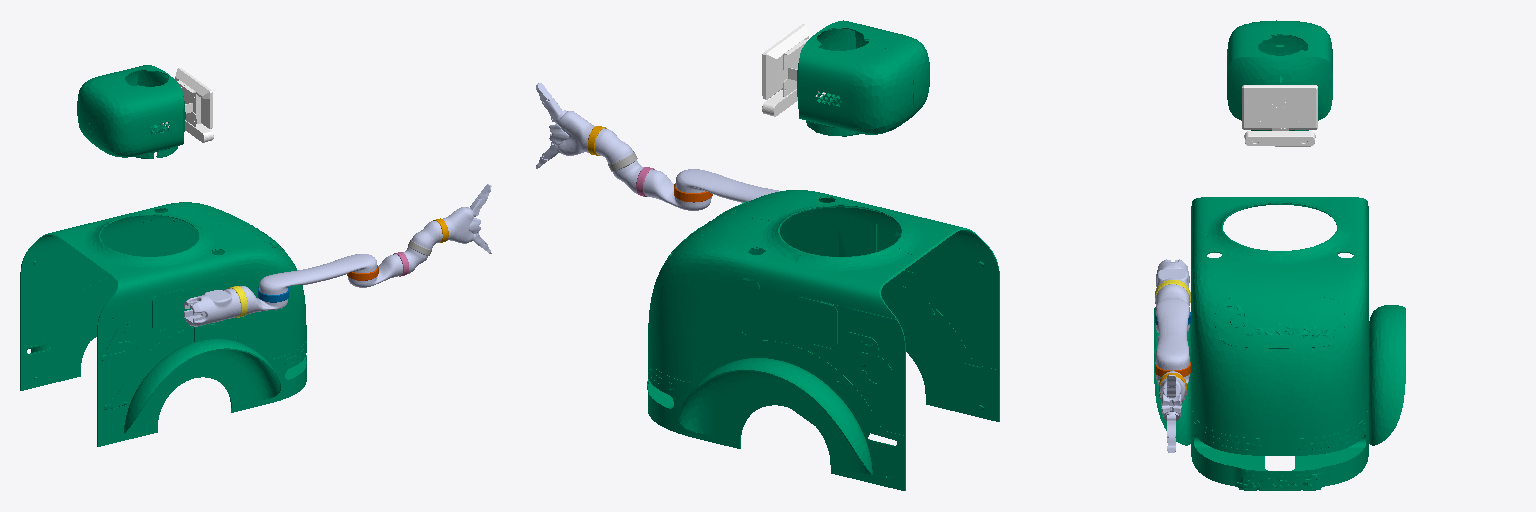
--- Facts derived from the render (not from the file) ---
Views: 3 orthographic renders of the robot side by side, from view 1: azimuth 30°, elevation 25°; view 2: azimuth 150°, elevation 25°; view 3: azimuth 270°, elevation 25°.
Robot: segway_robot — 38 links, 37 joints (4 revolute, 6 continuous, 27 fixed); root link base_link; default pose: all joints at 0 but 2 set to mid-range because 0 is outside their limits (m1n6s200_joint_2 = 3.14, m1n6s200_joint_3 = 3.14).
Links seen in each view (by area): view 1: jr2_fixed_body_link, m1n6s200_link_2, m1n6s200_link_base, tilt_link, m1n6s200_link_6, m1n6s200_link_3, m1n6s200_link_1, m1n6s200_link_5; view 2: jr2_fixed_body_link, tilt_link, m1n6s200_link_2, m1n6s200_link_6, m1n6s200_link_3, m1n6s200_link_5, m1n6s200_link_4, camera_link; view 3: jr2_fixed_body_link, tilt_link, m1n6s200_link_2, camera_link, m1n6s200_link_6, m1n6s200_link_base, m1n6s200_link_1.
Boxes of the visible links, left/top/right/bottom form: jr2_fixed_body_link: left=20, top=65, right=306, bottom=446; m1n6s200_link_2: left=258, top=254, right=376, bottom=302; m1n6s200_link_base: left=184, top=288, right=240, bottom=326; tilt_link: left=175, top=68, right=212, bottom=128; m1n6s200_link_6: left=433, top=207, right=480, bottom=243; m1n6s200_link_3: left=347, top=254, right=402, bottom=287; m1n6s200_link_1: left=228, top=286, right=287, bottom=317; m1n6s200_link_5: left=408, top=221, right=442, bottom=255; jr2_fixed_body_link: left=647, top=20, right=999, bottom=490; tilt_link: left=762, top=24, right=808, bottom=99; m1n6s200_link_2: left=676, top=169, right=779, bottom=202; m1n6s200_link_6: left=549, top=110, right=606, bottom=155; m1n6s200_link_3: left=644, top=169, right=712, bottom=210; m1n6s200_link_5: left=595, top=128, right=637, bottom=171; m1n6s200_link_4: left=613, top=160, right=654, bottom=196; camera_link: left=762, top=89, right=797, bottom=116; jr2_fixed_body_link: left=1154, top=20, right=1405, bottom=490; tilt_link: left=1242, top=85, right=1317, bottom=130; m1n6s200_link_2: left=1155, top=298, right=1190, bottom=370; camera_link: left=1244, top=131, right=1315, bottom=146; m1n6s200_link_6: left=1159, top=373, right=1186, bottom=420; m1n6s200_link_base: left=1156, top=259, right=1189, bottom=288; m1n6s200_link_1: left=1155, top=280, right=1190, bottom=332.
Bounding box of the posed robot: 1.25 × 0.6194 × 0.9925 m (x, y, z).
Meshes: 16 distinct files referenced, 21 mesh visuals loaded (1 binary STL, 13 OBJ); not drawn: 3 (reference not matched to a file when rendering).

robot.urdf — segway_robot:
<?xml version="1.0" ?>
<!-- =================================================================================== -->
<!-- |    This document was autogenerated by xacro from rmp.urdf.xacro                 | -->
<!-- |    EDITING THIS FILE BY HAND IS NOT RECOMMENDED                                 | -->
<!-- =================================================================================== -->
<!--
Software License Agreement (BSD)

\file      segway.urdf.xacro
\authors   Patrick Hussey
\copyright Copyright (c) 2018, Stanley Innovation, Inc., All rights reserved.

Redistribution and use in source and binary forms, with or without modification, are permitted provided that
the following conditions are met:
 * Redistributions of source code must retain the above copyright notice, this list of conditions and the
   following disclaimer.
 * Redistributions in binary form must reproduce the above copyright notice, this list of conditions and the
   following disclaimer in the documentation and/or other materials provided with the distribution.
 * Neither the name of Stanley Innovation, Inc. nor the names of its contributors may be used to endorse or promote
   products derived from this software without specific prior written permission.

THIS SOFTWARE IS PROVIDED BY THE COPYRIGHT HOLDERS AND CONTRIBUTORS "AS IS" AND ANY EXPRESS OR IMPLIED WAR-
RANTIES, INCLUDING, BUT NOT LIMITED TO, THE IMPLIED WARRANTIES OF MERCHANTABILITY AND FITNESS FOR A PARTICULAR
PURPOSE ARE DISCLAIMED. IN NO EVENT SHALL THE COPYRIGHT HOLDER OR CONTRIBUTORS BE LIABLE FOR ANY DIRECT, IN-
DIRECT, INCIDENTAL, SPECIAL, EXEMPLARY, OR CONSEQUENTIAL DAMAGES (INCLUDING, BUT NOT LIMITED TO, PROCUREMENT
OF SUBSTITUTE GOODS OR SERVICES; LOSS OF USE, DATA, OR PROFITS; OR BUSINESS INTERRUPTION) HOWEVER CAUSED AND
ON ANY THEORY OF LIABILITY, WHETHER IN CONTRACT, STRICT LIABILITY, OR TORT (INCLUDING NEGLIGENCE OR OTHERWISE)
ARISING IN ANY WAY OUT OF THE USE OF THIS SOFTWARE, EVEN IF ADVISED OF THE POSSIBILITY OF SUCH DAMAGE.
-->
<robot name="segway_robot" xmlns:xacro="http://ros.org/wiki/xacro">
  <gazebo>
    <plugin filename="libgazebo_ros_control.so" name="gazebo_ros_control">
      <robotNamespace>/</robotNamespace>
    </plugin>
    <plugin filename="libgazebo_ros_p3d.so" name="gazebo_ros_p3d">
      <bodyName>base_link</bodyName>
      <topicName>ground_truth_odom</topicName>
      <alwaysOn>true</alwaysOn>
      <updateRate>100.0</updateRate>
    </plugin>
  </gazebo>
  <!-- Base link is the center of the robot's chassis between the motors projected on the ground -->
  <link name="base_link">
  <inertial>
      <mass value="0.001"/>
      <origin rpy="0 0 0" xyz="0 0 0"/>
      <inertia ixx="0.0001" ixy="0.0" ixz="0.0" iyy="0.0001" iyz="0.0" izz="0.0001"/>
    </inertial>
  </link>
  <joint name="base_chassis_joint" type="fixed">
    <origin rpy="0 0 0" xyz="0 0 0.15801795"/>
    <parent link="base_link"/>
    <child link="base_chassis_link"/>
  </joint>
  <link name="base_chassis_link">
    <inertial>
      <mass value="101.0333036"/>
      <origin xyz="0 0 0.202000"/>
      <inertia ixx="5.38268396036" ixy="0" ixz="0" iyy="5.38268396036" iyz="0" izz="5.38268396036"/>
    </inertial>
    <collision>
      <geometry>
        <mesh filename="meshes/segway_components/collision/fixed_chassis_collision.stl"/>
      </geometry>
    </collision>
    <visual>
      <origin rpy="0 0 0" xyz="0 0 0"/>
      <geometry>
        <mesh filename="meshes/segway_components/visual/fixed_chassis.obj"/>
      </geometry>
          <material name="">
        <color rgba="1 1 1 1" />
      </material>
</visual>
  </link>

<joint name="jr2_fixed_body_joint" type="fixed">
    <parent link="base_chassis_link"/>
    <child link="jr2_fixed_body_link"/>
    <origin rpy="0 0 0" xyz="0 0 0"/>
  </joint>
  <link name="jr2_fixed_body_link">
    <visual>
      <origin rpy="0 0 0" xyz="0 0 0"/>
      <geometry>
        <mesh filename="meshes/segway_components/visual/fixed_body.obj" scale="1.0 1.0 1.0"/>
      </geometry>
    </visual>
    <collision>
      <origin rpy="0 0 0" xyz="0 0 0"/>
      <geometry>
        <mesh filename="meshes/segway_components/visual/fixed_body_vhacd.obj" scale="1.0 0.95 1.0"/>
      </geometry>
    </collision>
    <inertial>
      <mass value="0.001"/>
      <origin rpy="0 0 0" xyz="0 0 0"/>
      <inertia ixx="0.0001" ixy="0.0" ixz="0.0" iyy="0.0001" iyz="0.0" izz="0.0001"/>
    </inertial>
    
  </link>

  <joint name="left_wheel" type="continuous">
    <parent link="base_chassis_link"/>
    <child link="left_wheel_link"/>
    <origin rpy="0 0 0" xyz="0 0.27105 0.08255015"/>
    <axis rpy="0 0 0" xyz="0 1 0"/>
  </joint>
  <gazebo reference="left_wheel">
    <implicitSpringDamper>1</implicitSpringDamper>
    <stopCfm>0.1</stopCfm>
    <stopErp>0.2</stopErp>
  </gazebo>
  <link name="left_wheel_link">
    <inertial>
      <mass value="20.0"/>
      <origin rpy="0 0 0" xyz="0 0 0"/>
      <inertia ixx="0.303625" ixy="0.000000" ixz="0.000000" iyx="0.000000" iyy="0.303625" iyz="0.000000" izx="0.000000" izy="0.000000" izz="0.578884"/>
    </inertial>
    <visual>
      <origin rpy="-1.570795 0 0" xyz="0 0 0"/>
      <geometry>
        <mesh filename="meshes/segway_components/visual/i2_wheel.obj"/>
      </geometry>
          <material name="">
        <color rgba="1 1 1 1" />
      </material>
</visual>
    <collision>
      <origin rpy="-1.570795 0 0" xyz="0 0 0"/>
      <geometry>
        <cylinder length="0.092249" radius="0.2406"/>
      </geometry>
    </collision>

    <contact>
      <lateral_friction value="1.0"/>
      <rolling_friction value="0.0"/>
    <stiffness value="300000"/>
<damping value="30000"/>
    </contact>


  </link>
  <gazebo reference="left_wheel_link">
    <mu1>10</mu1>
    <mu2>10</mu2>
    <kp>5000000.0</kp>
    <kd>10.0</kd>
    <minDepth>0.001</minDepth>
    <maxVel>0.1</maxVel>
    <fdir1>1 0 0</fdir1>
  </gazebo>
  <transmission name="left_wheel_trans" type="SimpleTransmission">
    <type>transmission_interface/SimpleTransmission</type>
    <actuator name="left_wheel_motor">
      <mechanicalReduction>1</mechanicalReduction>
    </actuator>
    <joint name="left_wheel">
      <hardwareInterface>hardware_interface/VelocityJointInterface</hardwareInterface>
    </joint>
  </transmission>
  <joint name="right_wheel" type="continuous">
    <parent link="base_chassis_link"/>
    <child link="right_wheel_link"/>
    <origin rpy="0 0 0" xyz="0 -0.27105 0.08255015"/>
    <axis rpy="0 0 0" xyz="0 1 0"/>
  </joint>
  <gazebo reference="right_wheel">
    <implicitSpringDamper>1</implicitSpringDamper>
    <stopCfm>0.1</stopCfm>
    <stopErp>0.2</stopErp>
  </gazebo>
  <link name="right_wheel_link">
    <inertial>
      <mass value="20.0"/>
      <origin rpy="0 0 0" xyz="0 0 0"/>
      <inertia ixx="0.303625" ixy="0.000000" ixz="0.000000" iyx="0.000000" iyy="0.303625" iyz="0.000000" izx="0.000000" izy="0.000000" izz="0.578884"/>
    </inertial>
    <visual>
      <origin rpy="1.570795 0 0" xyz="0 0 0"/>
      <geometry>
        <mesh filename="meshes/segway_components/visual/i2_wheel.obj"/>
      </geometry>
          <material name="">
        <color rgba="1 1 1 1" />
      </material>
</visual>
    <collision>
      <origin rpy="1.570795 0 0" xyz="0 0 0"/>
      <geometry>
        <cylinder length="0.092249" radius="0.2406"/>
      </geometry>
    </collision>

    <contact>
      <lateral_friction value="1.0"/>
      <rolling_friction value="0.0"/>
    <stiffness value="300000"/>
<damping value="30000"/>
    </contact>

  </link>
  <gazebo reference="right_wheel_link">
    <mu1>10</mu1>
    <mu2>10</mu2>
    <kp>5000000.0</kp>
    <kd>10.0</kd>
    <minDepth>0.001</minDepth>
    <maxVel>0.1</maxVel>
    <fdir1>1 0 0</fdir1>
  </gazebo>
  <transmission name="right_wheel_trans" type="SimpleTransmission">
    <type>transmission_interface/SimpleTransmission</type>
    <actuator name="right_wheel_motor">
      <mechanicalReduction>1</mechanicalReduction>
    </actuator>
    <joint name="right_wheel">
      <hardwareInterface>hardware_interface/VelocityJointInterface</hardwareInterface>
    </joint>
  </transmission>
  <link name="front_caster_pivot_link">
    <inertial>
      <mass value="0.0001"/>
      <origin rpy="0 0 0" xyz="0 0 0"/>
      <inertia ixx="0.0000001" ixy="0.0" ixz="0.0" iyy="0.0000001" iyz="0.0" izz="0.0000001"/>
    </inertial>
    <collision>
      <geometry>
        <mesh filename="meshes/segway_components/collision/frogleg_caster_pivot_collision.stl"/>
      </geometry>
    </collision>
  </link>
  <joint name="front_caster_pivot_joint" type="fixed">
    <origin rpy="0 0 3.14159" xyz="0.385841 0 0.051100"/>
    <parent link="base_chassis_link"/>
    <child link="front_caster_pivot_link"/>
  </joint>
  <link name="front_caster_wheel_link">
    <inertial>
      <mass value="1"/>
      <origin rpy="0 0 0" xyz="0 0 0"/>
      <inertia ixx="0.002794" ixy="0.0" ixz="0.0" iyy="0.002794" iyz="0.0" izz="0.002794"/>
    </inertial>
    <collision>
      <geometry>
        <sphere radius="0.083571637"/>
      </geometry>
    </collision>

    <contact>
      <lateral_friction value="0.0"/>
      <rolling_friction value="0.0"/>
     <stiffness value="500000"/>
<damping value="30000"/>
    </contact>

  </link>
  <joint name="front_caster_wheel_joint" type="fixed">
    <origin rpy="-1.570795 0 0" xyz="-0.055330 0 -0.125551"/>
    <parent link="front_caster_pivot_link"/>
    <child link="front_caster_wheel_link"/>
  </joint>
  <gazebo reference="front_caster_wheel_link">
    <mu1>0.0</mu1>
    <mu2>0.0</mu2>
    <kp>10000000.0</kp>
    <kd>100.0</kd>
    <minDepth>0.01</minDepth>
    <maxVel>10.0</maxVel>
  </gazebo>
  <link name="rear_caster_pivot_link">
    <inertial>
      <mass value="0.0001"/>
      <origin rpy="0 0 0" xyz="0 0 0"/>
      <inertia ixx="0.0000001" ixy="0.0" ixz="0.0" iyy="0.0000001" iyz="0.0" izz="0.0000001"/>
    </inertial>
    <collision>
      <geometry>
        <mesh filename="meshes/segway_components/collision/frogleg_caster_pivot_collision.stl"/>
      </geometry>
    </collision>
  </link>
  <joint name="rear_caster_pivot_joint" type="fixed">
    <origin rpy="0 0 0" xyz="-0.314721 0 0.051100"/>
    <parent link="base_chassis_link"/>
    <child link="rear_caster_pivot_link"/>
  </joint>
  <link name="rear_caster_wheel_link">
    <inertial>
      <mass value="1"/>
      <origin rpy="0 0 0" xyz="0 0 0"/>
      <inertia ixx="0.002794" ixy="0.0" ixz="0.0" iyy="0.002794" iyz="0.0" izz="0.002794"/>
    </inertial>
    <collision>
      <geometry>
        <sphere radius="0.083571637"/>
      </geometry>
    </collision>

    <contact>
      <lateral_friction value="0.0"/>
      <rolling_friction value="0.0"/>
 <stiffness value="300000"/>
<damping value="30000"/>
    </contact>

  </link>
  <joint name="rear_caster_wheel_joint" type="fixed">
    <origin rpy="-1.570795 0 0" xyz="-0.055330 0 -0.125551"/>
    <parent link="rear_caster_pivot_link"/>
    <child link="rear_caster_wheel_link"/>
  </joint>
  <gazebo reference="rear_caster_wheel_link">
    <mu1>0.0</mu1>
    <mu2>0.0</mu2>
    <kp>10000000.0</kp>
    <kd>100.0</kd>
    <minDepth>0.01</minDepth>
    <maxVel>10.0</maxVel>
  </gazebo>
  <!-- CH Robotics UM7 Link-->
  <link name="ext_imu_frame">
  <inertial>
      <mass value="0.001"/>
      <origin rpy="0 0 0" xyz="0 0 0"/>
      <inertia ixx="0.0001" ixy="0.0" ixz="0.0" iyy="0.0001" iyz="0.0" izz="0.0001"/>
    </inertial>
    </link>
  <joint name="ext_imu_joint" type="fixed">
    <origin rpy="3.14159 0 1.570795" xyz="0.053540 0 0.086597"/>
    <parent link="base_chassis_link"/>
    <child link="ext_imu_frame"/>
  </joint>
  <gazebo>
    <plugin filename="libhector_gazebo_ros_imu.so" name="imu_controller">
      <alwaysOn>1</alwaysOn>
      <updateRate>50.0</updateRate>
      <bodyName>ext_imu_frame</bodyName>
      <topicName>/segway/feedback/ext_imu</topicName>
      <accelDrift>0.005 0.005 0.005</accelDrift>
      <accelGaussianNoise>0.005 0.005 0.005</accelGaussianNoise>
      <rateDrift>0.005 0.005 0.005 </rateDrift>
      <rateGaussianNoise>0.005 0.005 0.005 </rateGaussianNoise>
      <headingDrift>0.005</headingDrift>
      <headingGaussianNoise>0.005</headingGaussianNoise>
    </plugin>
  </gazebo>
  <link name="rear_laser_link">
  <inertial>
      <mass value="0.001"/>
      <origin rpy="0 0 0" xyz="0 0 0"/>
      <inertia ixx="0.0001" ixy="0.0" ixz="0.0" iyy="0.0001" iyz="0.0" izz="0.0001"/>
    </inertial>
  </link>
  <joint name="rear_laser_joint" type="fixed">
    <origin rpy="0 0 3.14159" xyz="-0.336957 0 0.137117"/>
    <parent link="base_chassis_link"/>
    <child link="rear_laser_link"/>
  </joint>
  <gazebo reference="rear_laser_link">
    <sensor name="rear_tim_laser" type="gpu_ray">
      <pose>0 0 0 0 0 0</pose>
      <visualize>false</visualize>
      <update_rate>15</update_rate>
      <ray>
        <scan>
          <horizontal>
            <samples>660</samples>
            <resolution>1</resolution>
            <min_angle>-1.9</min_angle>
            <max_angle>1.9</max_angle>
          </horizontal>
        </scan>
        <range>
          <min>0.10</min>
          <max>20.0</max>
          <resolution>0.01</resolution>
        </range>
        <noise>
          <type>gaussian</type>
          <mean>0.0</mean>
          <stddev>0.0</stddev>
        </noise>
      </ray>
      <plugin filename="libgazebo_ros_gpu_laser.so" name="rear_tim_node">
        <topicName>/segway/rear_scan</topicName>
        <frameName>rear_laser_link</frameName>
      </plugin>
    </sensor>
  </gazebo>
  <link name="front_laser_link">
  <inertial>
      <mass value="0.001"/>
      <origin rpy="0 0 0" xyz="0 0 0"/>
      <inertia ixx="0.0001" ixy="0.0" ixz="0.0" iyy="0.0001" iyz="0.0" izz="0.0001"/>
    </inertial>
  </link>
  <joint name="front_laser_joint" type="fixed">
    <origin rpy="0 0 0" xyz="0.336957 0 0.137117"/>
    <parent link="base_chassis_link"/>
    <child link="front_laser_link"/>
  </joint>
  <gazebo reference="front_laser_link">
    <sensor name="front_tim_laser" type="gpu_ray">
      <pose>0 0 0 0 0 0</pose>
      <visualize>false</visualize>
      <update_rate>15</update_rate>
      <ray>
        <scan>
          <horizontal>
            <samples>660</samples>
            <resolution>1</resolution>
            <min_angle>-1.9</min_angle>
            <max_angle>1.9</max_angle>
          </horizontal>
        </scan>
        <range>
          <min>0.10</min>
          <max>20.0</max>
          <resolution>0.01</resolution>
        </range>
        <noise>
          <type>gaussian</type>
          <mean>0.0</mean>
          <stddev>0.0</stddev>
        </noise>
      </ray>
      <plugin filename="libgazebo_ros_gpu_laser.so" name="front_tim_node">
        <topicName>/segway/front_scan</topicName>
        <frameName>front_laser_link</frameName>
      </plugin>
    </sensor>
  </gazebo>
  <link name="lower_velodyne_frame">
  <inertial>
      <mass value="0.001"/>
      <origin rpy="0 0 0" xyz="0 0 0"/>
      <inertia ixx="0.0001" ixy="0.0" ixz="0.0" iyy="0.0001" iyz="0.0" izz="0.0001"/>
    </inertial>
  </link>
  <joint name="lower_velodyne_joint" type="fixed">
    <origin rpy="0 0 0" xyz="-0.019685 0 0.606982"/>
    <parent link="base_chassis_link"/>
    <child link="lower_velodyne_frame"/>
  </joint>
  <!--gazebo reference="lower_velodyne_frame">>
            <sensor type="ray" name="lower_velodyne">
                <pose>0 0 0 0 0 0</pose>
                <visualize>false</visualize>
                <update_rate>10</update_rate>
                <ray>
                    <scan>
                        <horizontal>
                            <samples>1090</samples>
                            <resolution>1</resolution>
                            <min_angle>${-M_PI}</min_angle>
                            <max_angle>${M_PI}</max_angle>
                        </horizontal>
                        <vertical>
                            <samples>16</samples>
                            <resolution>1</resolution>
                            <min_angle>-${15.0*M_PI/180.0}</min_angle>
                            <max_angle> ${15.0*M_PI/180.0}</max_angle>
                        </vertical>
                    </scan>
                    <range>
                        <min>0.9</min>
                        <max>20.0</max>
                        <resolution>0.001</resolution>
                    </range>
                    <noise>
                        <type>gaussian</type>
                        <mean>0.0</mean>
                        <stddev>0.0</stddev>
                    </noise>
                </ray>
                <plugin name="lower_velodyne_plugin" filename="libgazebo_ros_block_laser.so">
                    <updateRate>10.0</updateRate>
                    <topicName>/lower_velodyne_pointcloud</topicName>
                    <frameName>lower_velodyne_frame</frameName>
                </plugin>

            </sensor>
        </gazebo-->
  <link name="occam">
  <inertial>
      <mass value="0.001"/>
      <origin rpy="0 0 0" xyz="0 0 0"/>
      <inertia ixx="0.0001" ixy="0.0" ixz="0.0" iyy="0.0001" iyz="0.0" izz="0.0001"/>
    </inertial>
    </link>
  <joint name="ocamm_omni_joint" type="fixed">
    <origin rpy="-1.570795 0 -1.570795" xyz="-0.019685 0 0.742092"/>
    <parent link="base_chassis_link"/>
    <child link="occam"/>
  </joint>
  <link name="occam_omni_optical_link">
  <inertial>
      <mass value="0.001"/>
      <origin rpy="0 0 0" xyz="0 0 0"/>
      <inertia ixx="0.0001" ixy="0.0" ixz="0.0" iyy="0.0001" iyz="0.0" izz="0.0001"/>
    </inertial>
  </link>
  <joint name="ocamm_omni_optical_joint" type="fixed">
    <origin rpy="0 1.570795 -1.570795" xyz="0 0 0"/>
    <parent link="occam"/>
    <child link="occam_omni_optical_link"/>
  </joint>
  <link name="upper_velodyne_frame">
  <inertial>
      <mass value="0.001"/>
      <origin rpy="0 0 0" xyz="0 0 0"/>
      <inertia ixx="0.0001" ixy="0.0" ixz="0.0" iyy="0.0001" iyz="0.0" izz="0.0001"/>
    </inertial>
  </link>
  <joint name="upper_velodyne_joint" type="fixed">
    <origin rpy="0 0 0.085" xyz="-0.019685 0 1.077382"/>
    <parent link="base_chassis_link"/>
    <child link="upper_velodyne_frame"/>
  </joint>
  <!--gazebo reference="upper_velodyne_frame">
            <sensor name="upper_velodyne" type="ray">
                <pose>0 0 0 0 0 0</pose>
                <visualize>false</visualize>
                <update_rate>10</update_rate>
                <ray>
                    <scan>
                        <horizontal>
                            <samples>1090</samples>
                            <resolution>1</resolution>
                            <min_angle>${-M_PI}</min_angle>
                            <max_angle>${M_PI}</max_angle>
                        </horizontal>
                        <vertical>
                            <samples>16</samples>
                            <resolution>1</resolution>
                            <min_angle>-${15.0*M_PI/180.0}</min_angle>
                            <max_angle> ${15.0*M_PI/180.0}</max_angle>
                        </vertical>
                    </scan>
                    <range>
                        <min>0.9</min>
                        <max>20.0</max>
                        <resolution>0.001</resolution>
                    </range>
                    <noise>
                        <type>gaussian</type>
                        <mean>0.0</mean>
                        <stddev>0.0</stddev>
                    </noise>
                </ray>
                <plugin name="upper_velodyne_plugin" filename="libgazebo_ros_block_laser.so">
                    <updateRate>10.0</updateRate>
                    <topicName>/upper_velodyne_pointcloud</topicName>
                    <frameName>upper_velodyne_frame</frameName>
                </plugin>

            </sensor>
        </gazebo-->
  <link name="gps_frame">
  <inertial>
      <mass value="0.001"/>
      <origin rpy="0 0 0" xyz="0 0 0"/>
      <inertia ixx="0.0001" ixy="0.0" ixz="0.0" iyy="0.0001" iyz="0.0" izz="0.0001"/>
    </inertial>
  </link>
  <joint name="gps_joint" type="fixed">
    <origin rpy="0 0 -1.570795" xyz="-0.019685 0 1.116244"/>
    <parent link="base_chassis_link"/>
    <child link="gps_frame"/>
  </joint>
  <gazebo>
    <plugin filename="libhector_gazebo_ros_gps.so" name="gps_controller">
      <alwaysOn>1</alwaysOn>
      <updateRate>40</updateRate>
      <bodyName>gps_frame</bodyName>
      <topicName>/segway/feedback/gps/fix_2d</topicName>
      <velocityTopicName>/segway/feedback/gps/vel</velocityTopicName>
      <referenceLatitude>40.712784</referenceLatitude>
      <referenceLongitude>-74.005941</referenceLongitude>
      <referenceHeading>0</referenceHeading>
      <referenceAltitude>0</referenceAltitude>
      <drift>0.0001 0.0001 0.0001</drift>
    </plugin>
  </gazebo>
  <joint name="pan_joint" type="fixed">
    <origin rpy="0 0 0" xyz="0.043815 0 0.886186"/>
    <axis xyz="0 0 1"/>
    <parent link="base_chassis_link"/>
    <child link="pan_link"/>
    <limit effort="60.0" lower="-1.570796326794897" upper="1.570796326794897" velocity="6.597"/>
  </joint>
  <link name="pan_link">
    <inertial>
      <mass value="0.142314"/>
      <origin xyz="-0.000098 -0.000421 0.038035"/>
      <inertia ixx="0.000065" ixy="0.000001" ixz="0.000000" iyx="0.000001" iyy="0.000055" iyz="-0.000002" izx="0.00000" izy="-0.000002" izz="0.000034"/>
    </inertial>
    <visual>
      <origin rpy="0 0 0" xyz="0 0 0"/>
      <geometry>
        <mesh filename="meshes/segway_components/visual/tilt_servo.obj"/>
      </geometry>
          <material name="">
        <color rgba="1 1 1 1" />
      </material>
</visual>
    <collision>
      <origin rpy="0 0 0" xyz="0 0 0"/>
      <geometry>
        <mesh filename="meshes/segway_components/collision/tilt_servo_collision.stl"/>
      </geometry>
    </collision>
  </link>
  <transmission name="pan_trans" type="SimpleTransmission">
    <type>transmission_interface/SimpleTransmission</type>
    <joint name="pan_joint">
      <hardwareInterface>hardware_interface/EffortJointInterface</hardwareInterface>
    </joint>
    <actuator name="pan_actuator">
      <mechanicalReduction>1</mechanicalReduction>
    </actuator>
  </transmission>
  <link name="tilt_link">
    <inertial>
      <mass value="0.531983"/>
      <origin xyz="0.077660 -0.013492 0.006611"/>
      <inertia ixx="0.001766" ixy="0.000001" ixz="-0.000024" iyx="0.000001" iyy="0.001253" iyz="0.000022" izx="-0.000024" izy="0.000022" izz="0.000629"/>
    </inertial>
    <visual>
      <origin rpy="0 0 0" xyz="0 0 0"/>
      <geometry>
        <mesh filename="meshes/segway_components/visual/touch_screen.obj"/>
      </geometry>
          <material name="">
        <color rgba="1 1 1 1" />
      </material>
</visual>
    <collision>
      <origin rpy="0 0 0" xyz="0 0 0"/>
      <geometry>
        <mesh filename="meshes/segway_components/collision/touch_screen_collision.stl"/>
      </geometry>
    </collision>
  </link>
  <joint name="tilt_joint" type="fixed">
    <origin rpy="-1.570795 0 0" xyz="0 0 0.055000"/>
    <axis xyz="0 0 1"/>
    <parent link="pan_link"/>
    <child link="tilt_link"/>
    <limit effort="60.0" lower="-1.570796326794897" upper="1.570796326794897" velocity="6.597"/>
  </joint>
  <transmission name="tilt_trans" type="SimpleTransmission">
    <type>transmission_interface/SimpleTransmission</type>
    <joint name="tilt_joint">
      <hardwareInterface>hardware_interface/EffortJointInterface</hardwareInterface>
    </joint>
    <actuator name="tilt_actuator">
      <mechanicalReduction>1</mechanicalReduction>
    </actuator>
  </transmission>
  <joint name="camera_joint" type="fixed">
    <origin rpy="1.57 0 0" xyz="0.08 0.075 0.0"/>
    <parent link="tilt_link"/>
    <child link="camera_link"/>
  </joint>
  <link name="camera_link">
    <inertial>
      <mass value="0.1"/>
      <origin xyz="0 0 0"/>
      <inertia ixx="0.001767" ixy="0.0" ixz="0.0" iyx="0.0" iyy="0.001789" iyz="0.0" izx="0.0" izy="0.0" izz="0.002159"/>
    </inertial>
    <visual>
      <geometry>
        <mesh filename="meshes/additional_sensors/visual/ZED.stl"/>
      </geometry>
          <material name="">
        <color rgba="1 1 1 1" />
      </material>
</visual>
    <collision>
      <geometry>
        <box size="0.033 0.175 0.030"/>
      </geometry>
    </collision>
  </link>


  <!-- ZED left camera frame -->
  <link name="camera_rgb_frame">
  <inertial>
      <mass value="0.001"/>
      <origin rpy="0 0 0" xyz="0 0 0"/>
      <inertia ixx="0.0001" ixy="0.0" ixz="0.0" iyy="0.0001" iyz="0.0" izz="0.0001"/>
    </inertial>
  </link>
  <joint name="camera_rgb_joint" type="fixed">
    <origin rpy="0 0 0" xyz="0 0.06 0"/>
    <parent link="camera_link"/>
    <child link="camera_rgb_frame"/>
  </joint>
  <link name="camera_rgb_optical_frame">
  <inertial>
      <mass value="0.001"/>
      <origin rpy="0 0 0" xyz="0 0 0"/>
      <inertia ixx="0.0001" ixy="0.0" ixz="0.0" iyy="0.0001" iyz="0.0" izz="0.0001"/>
    </inertial>
  </link>
  <joint name="camera_rgb_optical_joint" type="fixed">
    <origin rpy="-1.57075 0 -1.57075" xyz="0 0 0"/>
    <parent link="camera_rgb_frame"/>
    <child link="camera_rgb_optical_frame"/>
  </joint>
  <!-- Same as ZED left camera frame -->
  <link name="camera_depth_frame">
  <inertial>
      <mass value="0.001"/>
      <origin rpy="0 0 0" xyz="0 0 0"/>
      <inertia ixx="0.0001" ixy="0.0" ixz="0.0" iyy="0.0001" iyz="0.0" izz="0.0001"/>
    </inertial>
    </link>
  <joint name="camera_depth_joint" type="fixed">
    <origin rpy="0 0 0" xyz="0 0.06 0"/>
    <parent link="camera_link"/>
    <child link="camera_depth_frame"/>
  </joint>
  <link name="camera_depth_optical_frame">
  <inertial>
      <mass value="0.001"/>
      <origin rpy="0 0 0" xyz="0 0 0"/>
      <inertia ixx="0.0001" ixy="0.0" ixz="0.0" iyy="0.0001" iyz="0.0" izz="0.0001"/>
    </inertial>
    </link>
  <joint name="camera_depth_optical_joint" type="fixed">
    <origin rpy="-1.57075 0 -1.57075" xyz="0 0 0"/>
    <parent link="camera_depth_frame"/>
    <child link="camera_depth_optical_frame"/>
  </joint>
  <gazebo reference="camera_link">
    <material>Gazebo/Grey</material>
    <sensor name="camera" type="depth">
      <always_on>true</always_on>
      <update_rate>30</update_rate>
      <camera>
        <horizontal_fov>1.57</horizontal_fov>
        <image>
          <format>R8G8B8</format>
          <width>672</width>
          <height>376</height>
        </image>
        <clip>
          <near>0.05</near>
          <far>10.0</far>
        </clip>
      </camera>
      <plugin filename="libgazebo_ros_openni_kinect.so" name="kinect_camera_controller">
        <cameraName>camera</cameraName>
        <alwaysOn>true</alwaysOn>
        <updateRate>20</updateRate>
        <imageTopicName>rgb/image_rect_color</imageTopicName>
        <depthImageTopicName>depth_registered/image_raw</depthImageTopicName>
        <pointCloudTopicName>depth_registered/points</pointCloudTopicName>
        <cameraInfoTopicName>rgb/camera_info</cameraInfoTopicName>
        <depthImageCameraInfoTopicName>depth_registered/camera_info</depthImageCameraInfoTopicName>
        <pointCloudCutoff>0.4</pointCloudCutoff>
        <pointCloudCutoffMax>10.0</pointCloudCutoffMax>
        <frameName>camera_rgb_optical_frame</frameName>
        <baseline>0.1</baseline>
        <distortion_k1>0.0</distortion_k1>
        <distortion_k2>0.0</distortion_k2>
        <distortion_k3>0.0</distortion_k3>
        <distortion_t1>0.0</distortion_t1>
        <distortion_t2>0.0</distortion_t2>
        <CxPrime>0</CxPrime>
        <Cx>0</Cx>
        <Cy>0</Cy>
        <focalLength>0</focalLength>
        <hackBaseline>0</hackBaseline>
      </plugin>
    </sensor>
  </gazebo>
  <!-- Head mounted Intel Realsense D435 RGB-D camera-->
  <!--
        <xacro:intel_realsense_d435 parent="tilt_link" rgbd_prefix="camera">
           <origin xyz="0.05 0 0.05" rpy="0 0 0"/>
           </xacro:intel_realsense_d435>
      -->



   <link name="eyes">
      <inertial>
      <mass value="0.001"/>
      <origin xyz="0 0 0"/>
      <inertia ixx="0.0001" ixy="0.0" ixz="0.0" iyy="0.0001" iyz="0.0" izz="0.0001"/>
    </inertial>
  </link>
  <joint name="eye_joint" type="fixed">
   <origin rpy="0 0 0" xyz="0.1 0 0"/>
    <parent link="camera_link"/>
    <child link="eyes"/>
  </joint>


  <link name="right_arm_attach_link">
   <inertial>
      <mass value="0.001"/>
      <origin xyz="0 0 0"/>
      <inertia ixx="0.0001" ixy="0.0" ixz="0.0" iyy="0.0001" iyz="0.0" izz="0.0001"/>
    </inertial>
  </link>
  <joint name="right_arm_attach_joint" type="fixed">
    <origin rpy="1.570795 0 1.570795" xyz="-0.044460 -0.263000 0.431008"/>
    <parent link="base_chassis_link"/>
    <child link="right_arm_attach_link"/>
  </joint>

  <joint name="m1n6s200_joint_base" type="fixed">
    <parent link="right_arm_attach_link"/>
    <child link="m1n6s200_link_base"/>
    <axis xyz="0 0 0"/>
    <limit effort="2000" lower="0" upper="0" velocity="1"/>
    <origin rpy="0 0 0" xyz="0 0 0"/>
    <dynamics damping="0.0" friction="0.0"/>
  </joint>


  <link name="m1n6s200_link_base">
    <visual>
      <geometry>
        <mesh filename="meshes/kinova/base.obj"/>
      </geometry>
      <material name="carbon_fiber">
        <color rgba="0.792156862745098 0.819607843137255 0.933333333333333 1"/>
      </material>
    </visual>
    <collision>
      <geometry>
        <mesh filename="meshes/kinova/base.obj"/>
      </geometry>
    </collision>
    <inertial>
      <mass value="0.46784"/>
      <origin rpy="0 0 0" xyz="0 0 0.1255"/>
      <inertia ixx="0.000951270861568" ixy="0" ixz="0" iyy="0.000951270861568" iyz="0" izz="0.000374272"/>
    </inertial>
  </link>

  <link name="m1n6s200_link_1">
    <visual>
      <geometry>
        <mesh filename="meshes/kinova/shoulder.obj"/>
      </geometry>
      <material name="carbon_fiber">
        <color rgba="0.792156862745098 0.819607843137255 0.933333333333333 1"/>
      </material>
    </visual>
    <visual>
      <geometry>
        <mesh filename="meshes/kinova/ring_big.obj"/>
      </geometry>
    </visual>
    <collision>
      <geometry>
        <mesh filename="meshes/kinova/shoulder.obj"/>
      </geometry>
    </collision>
    <inertial>
      <mass value="0.7477"/>
      <origin xyz="0 -0.002 -0.0605"/>
      <inertia ixx="0.00152031725204" ixy="0" ixz="0" iyy="0.00152031725204" iyz="0" izz="0.00059816"/>
    </inertial>
  </link>
  <joint name="m1n6s200_joint_1" type="continuous">
    <parent link="m1n6s200_link_base"/>
    <child link="m1n6s200_link_1"/>
    <axis xyz="0 0 1"/>
    <limit effort="2000" lower="-6.28318530718" upper="6.28318530718" velocity="1"/>
    <origin rpy="0 3.14159265359 0" xyz="0 0 0.15675"/>
    <dynamics damping="0.0" friction="0.0"/>
  </joint>
  <transmission name="m1n6s200_joint_1_trans">
    <type>transmission_interface/SimpleTransmission</type>
    <joint name="m1n6s200_joint_1">
      <hardwareInterface>EffortJointInterface</hardwareInterface>
    </joint>
    <actuator name="m1n6s200_joint_1_actuator">
      <hardwareInterface>EffortJointInterface</hardwareInterface>
      <mechanicalReduction>160</mechanicalReduction>
    </actuator>
  </transmission>
  <link name="m1n6s200_link_2">
    <visual>
      <geometry>
        <mesh filename="meshes/kinova/arm_mico.obj"/>
      </geometry>
      <material name="carbon_fiber">
        <color rgba="0.792156862745098 0.819607843137255 0.933333333333333 1"/>
      </material>
    </visual>
    <visual>
      <geometry>
        <mesh filename="meshes/kinova/ring_big.obj"/>
      </geometry>
    </visual>
    <collision>
      <geometry>
        <mesh filename="meshes/kinova/arm_mico.obj"/>
      </geometry>
    </collision>
    <inertial>
      <mass value="0.85968"/>
      <origin xyz="0 -0.145  -0.0076"/>
      <inertia ixx="0.00467090931629" ixy="0" ixz="0" iyy="0.000386856" iyz="0" izz="0.00467090931629"/>
    </inertial>
  </link>
  <joint name="m1n6s200_joint_2" type="revolute">
    <parent link="m1n6s200_link_1"/>
    <child link="m1n6s200_link_2"/>
    <axis xyz="0 0 1"/>
    <limit effort="2000" lower="0.872664625997" upper="5.41052068118" velocity="1"/>
    <origin rpy="-1.57079632679 0 3.14159265359" xyz="0 0.0016 -0.11875"/>
    <dynamics damping="0.0" friction="0.0"/>
  </joint>
  <transmission name="m1n6s200_joint_2_trans">
    <type>transmission_interface/SimpleTransmission</type>
    <joint name="m1n6s200_joint_2">
      <hardwareInterface>EffortJointInterface</hardwareInterface>
    </joint>
    <actuator name="m1n6s200_joint_2_actuator">
      <hardwareInterface>EffortJointInterface</hardwareInterface>
      <mechanicalReduction>160</mechanicalReduction>
    </actuator>
  </transmission>
  <link name="m1n6s200_link_3">
    <visual>
      <geometry>
        <mesh filename="meshes/kinova/forearm_mico.obj"/>
      </geometry>
      <material name="carbon_fiber">
        <color rgba="0.792156862745098 0.819607843137255 0.933333333333333 1"/>
      </material>
    </visual>
    <visual>
      <geometry>
        <mesh filename="meshes/kinova/ring_big.obj"/>
      </geometry>
    </visual>
    <collision>
      <geometry>
        <mesh filename="meshes/kinova/forearm_mico.obj"/>
      </geometry>
    </collision>
    <inertial>
      <mass value="0.606"/>
      <origin xyz="0 0.0463 -0.0065"/>
      <inertia ixx="0.0003837984648" ixy="0" ixz="0" iyy="0.0001212" iyz="0" izz="0.0003837984648"/>
    </inertial>
  </link>
  <joint name="m1n6s200_joint_3" type="revolute">
    <parent link="m1n6s200_link_2"/>
    <child link="m1n6s200_link_3"/>
    <axis xyz="0 0 1"/>
    <limit effort="2000" lower="0.610865238198" upper="5.67232006898" velocity="1"/>
    <origin rpy="0 3.14159265359 0" xyz="0 -0.290 0"/>
    <dynamics damping="0.0" friction="0.0"/>
  </joint>
  <transmission name="m1n6s200_joint_3_trans">
    <type>transmission_interface/SimpleTransmission</type>
    <joint name="m1n6s200_joint_3">
      <hardwareInterface>EffortJointInterface</hardwareInterface>
    </joint>
    <actuator name="m1n6s200_joint_3_actuator">
      <hardwareInterface>EffortJointInterface</hardwareInterface>
      <mechanicalReduction>160</mechanicalReduction>
    </actuator>
  </transmission>
  <link name="m1n6s200_link_4">
    <visual>
      <geometry>
        <mesh filename="meshes/kinova/wrist.obj"/>
      </geometry>
      <material name="carbon_fiber">
        <color rgba="0.792156862745098 0.819607843137255 0.933333333333333 1"/>
      </material>
    </visual>
    <visual>
      <geometry>
        <mesh filename="meshes/kinova/ring_small.obj"/>
      </geometry>
    </visual>
    <collision>
      <geometry>
        <mesh filename="meshes/kinova/wrist.obj"/>
      </geometry>
    </collision>
    <inertial>
      <mass value="0.426367"/>
      <origin xyz="0 -0.037 -0.0642"/>
      <inertia ixx="7.73496906e-05" ixy="0" ixz="0" iyy="7.73496906e-05" iyz="0" izz="0.0001428"/>
    </inertial>
  </link>
  <joint name="m1n6s200_joint_4" type="continuous">
    <parent link="m1n6s200_link_3"/>
    <child link="m1n6s200_link_4"/>
    <axis xyz="0 0 1"/>
    <limit effort="2000" lower="-6.28318530718" upper="6.28318530718" velocity="1"/>
    <origin rpy="-1.57079632679 0 3.14159265359" xyz="0 0.1231 -0.0086"/>
    <dynamics damping="0.0" friction="0.0"/>
  </joint>
  <transmission name="m1n6s200_joint_4_trans">
    <type>transmission_interface/SimpleTransmission</type>
    <joint name="m1n6s200_joint_4">
      <hardwareInterface>EffortJointInterface</hardwareInterface>
    </joint>
    <actuator name="m1n6s200_joint_4_actuator">
      <hardwareInterface>EffortJointInterface</hardwareInterface>
      <mechanicalReduction>160</mechanicalReduction>
    </actuator>
  </transmission>
  <link name="m1n6s200_link_5">
    <visual>
      <geometry>
        <mesh filename="meshes/kinova/wrist.obj"/>
      </geometry>
      <material name="carbon_fiber">
        <color rgba="0.792156862745098 0.819607843137255 0.933333333333333 1"/>
      </material>
    </visual>
    <visual>
      <geometry>
        <mesh filename="meshes/kinova/ring_small.obj"/>
      </geometry>
    </visual>
    <collision>
      <geometry>
        <mesh filename="meshes/kinova/wrist.obj"/>
      </geometry>
    </collision>
    <inertial>
      <mass value="0.426367"/>
      <origin xyz="0 -0.037 -0.0642"/>
      <inertia ixx="7.73496906e-05" ixy="0" ixz="0" iyy="7.73496906e-05" iyz="0" izz="0.0001428"/>
    </inertial>
  </link>
  <joint name="m1n6s200_joint_5" type="continuous">
    <parent link="m1n6s200_link_4"/>
    <child link="m1n6s200_link_5"/>
    <axis xyz="0 0 1"/>
    <limit effort="2000" lower="-6.28318530718" upper="6.28318530718" velocity="1"/>
    <origin rpy="1.0471975512 0 3.14159265359" xyz="0 -0.03703 -0.06414"/>
    <dynamics damping="0.0" friction="0.0"/>
  </joint>
  <transmission name="m1n6s200_joint_5_trans">
    <type>transmission_interface/SimpleTransmission</type>
    <joint name="m1n6s200_joint_5">
      <hardwareInterface>EffortJointInterface</hardwareInterface>
    </joint>
    <actuator name="m1n6s200_joint_5_actuator">
      <hardwareInterface>EffortJointInterface</hardwareInterface>
      <mechanicalReduction>160</mechanicalReduction>
    </actuator>
  </transmission>
  <link name="m1n6s200_link_6">
    <visual>
      <geometry>
        <mesh filename="meshes/kinova/hand_2finger.obj"/>
      </geometry>
      <material name="carbon_fiber">
        <color rgba="0.792156862745098 0.819607843137255 0.933333333333333 1"/>
      </material>
    </visual>
    <visual>
      <geometry>
        <mesh filename="meshes/kinova/ring_small.obj"/>
      </geometry>
    </visual>
    <collision>
      <geometry>
        <mesh filename="meshes/kinova/hand_2finger.obj"/>
      </geometry>
    </collision>
    <inertial>
      <mass value="0.78"/>
      <origin xyz="0 0 -0.06"/>
      <inertia ixx="0.000370498518" ixy="0" ixz="0" iyy="0.000370498518" iyz="0" izz="0.000624"/>
    </inertial>
  </link>
  <joint name="m1n6s200_joint_6" type="continuous">
    <parent link="m1n6s200_link_5"/>
    <child link="m1n6s200_link_6"/>
    <axis xyz="0 0 1"/>
    <limit effort="2000" lower="-6.28318530718" upper="6.28318530718" velocity="1"/>
    <origin rpy="1.0471975512 0 3.14159265359" xyz="0 -0.03703 -0.06414"/>
    <dynamics damping="0.0" friction="0.0"/>
  </joint>
  <transmission name="m1n6s200_joint_6_trans">
    <type>transmission_interface/SimpleTransmission</type>
    <joint name="m1n6s200_joint_6">
      <hardwareInterface>EffortJointInterface</hardwareInterface>
    </joint>
    <actuator name="m1n6s200_joint_6_actuator">
      <hardwareInterface>EffortJointInterface</hardwareInterface>
      <mechanicalReduction>160</mechanicalReduction>
    </actuator>
  </transmission>
  <link name="m1n6s200_end_effector">
    <visual>
      <geometry>
        <box size="0 0 0"/>
      </geometry>
    </visual>
    <collision>
      <geometry>
        <box size="0 0 0"/>
      </geometry>
    </collision>

     <inertial>
      <mass value="0.001"/>
      <origin rpy="0 0 0" xyz="0 0 0"/>
      <inertia ixx="0.0001" ixy="0.0" ixz="0.0" iyy="0.0001" iyz="0.0" izz="0.0001"/>
    </inertial>

  </link>
  <joint name="m1n6s200_joint_end_effector" type="fixed">
    <parent link="m1n6s200_link_6"/>
    <child link="m1n6s200_end_effector"/>
    <axis xyz="0 0 0"/>
    <limit effort="2000" lower="0" upper="0" velocity="1"/>
    <origin rpy="3.14159265359 0 1.57079632679" xyz="0 0 -0.1600"/>
  </joint>
  <link name="m1n6s200_link_finger_1">
    <visual>
      <geometry>
        <mesh filename="meshes/kinova/finger_proximal.obj"/>
      </geometry>
      <material name="carbon_fiber">
        <color rgba="0.792156862745098 0.819607843137255 0.933333333333333 1"/>
      </material>
    </visual>
    <collision>
      <geometry>
        <mesh filename="meshes/kinova/finger_proximal.obj"/>
      </geometry>
    </collision>
    <inertial>
      <mass value="0.01"/>
      <origin xyz="0.022 0 0"/>
      <inertia ixx="7.8999684e-07" ixy="0" ixz="0" iyy="7.8999684e-07" iyz="0" izz="8e-08"/>
    </inertial>
  </link>
  <joint name="m1n6s200_joint_finger_1" type="revolute">
    <parent link="m1n6s200_link_6"/>
    <child link="m1n6s200_link_finger_1"/>
    <axis xyz="0 0 1"/>
    <origin rpy="-1.570796327 .649262481663582 1.57079632679490" xyz="-0.0025 0.03095 -0.11482"/>
    <limit effort="2000" lower="0" upper="2" velocity="1"/>
  </joint>
  <transmission name="m1n6s200_joint_finger_1_trans">
    <type>transmission_interface/SimpleTransmission</type>
    <joint name="m1n6s200_joint_finger_1">
      <hardwareInterface>EffortJointInterface</hardwareInterface>
    </joint>
    <actuator name="m1n6s200_joint_finger_1_actuator">
      <hardwareInterface>EffortJointInterface</hardwareInterface>
      <mechanicalReduction>1</mechanicalReduction>
    </actuator>
  </transmission>
  <link name="m1n6s200_link_finger_tip_1">
    <visual>
      <geometry>
        <mesh filename="meshes/kinova/finger_distal.obj"/>
      </geometry>
      <material name="carbon_fiber">
        <color rgba="0.792156862745098 0.819607843137255 0.933333333333333 1"/>
      </material>
    </visual>
    <collision>
      <geometry>
        <mesh filename="meshes/kinova/finger_distal.obj"/>
      </geometry>
    </collision>
    <inertial>
      <mass value="0.01"/>
      <origin xyz="0.022 0 0"/>
      <inertia ixx="7.8999684e-07" ixy="0" ixz="0" iyy="7.8999684e-07" iyz="0" izz="8e-08"/>
    </inertial>
  </link>
  <joint name="m1n6s200_joint_finger_tip_1" type="fixed">
    <parent link="m1n6s200_link_finger_1"/>
    <child link="m1n6s200_link_finger_tip_1"/>
    <axis xyz="0 0 1"/>
    <origin rpy="0 0 0" xyz="0.044 -0.003 0"/>
    <limit effort="2000" lower="0" upper="2" velocity="1"/>
  </joint>
  <link name="m1n6s200_link_finger_2">
    <visual>
      <geometry>
        <mesh filename="meshes/kinova/finger_proximal.obj"/>
      </geometry>
      <material name="carbon_fiber">
        <color rgba="0.792156862745098 0.819607843137255 0.933333333333333 1"/>
      </material>
    </visual>
    <collision>
      <geometry>
        <mesh filename="meshes/kinova/finger_proximal.obj"/>
      </geometry>
    </collision>
    <inertial>
      <mass value="0.01"/>
      <origin xyz="0.022 0 0"/>
      <inertia ixx="7.8999684e-07" ixy="0" ixz="0" iyy="7.8999684e-07" iyz="0" izz="8e-08"/>
    </inertial>
  </link>
  <joint name="m1n6s200_joint_finger_2" type="revolute">
    <parent link="m1n6s200_link_6"/>
    <child link="m1n6s200_link_finger_2"/>
    <axis xyz="0 0 1"/>
    <origin rpy="-1.570796327 .649262481663582 -1.57079632679490" xyz="-0.0025 -0.03095 -0.11482"/>
    <limit effort="2000" lower="0" upper="2" velocity="1"/>
  </joint>
  <transmission name="m1n6s200_joint_finger_2_trans">
    <type>transmission_interface/SimpleTransmission</type>
    <joint name="m1n6s200_joint_finger_2">
      <hardwareInterface>EffortJointInterface</hardwareInterface>
    </joint>
    <actuator name="m1n6s200_joint_finger_2_actuator">
      <hardwareInterface>EffortJointInterface</hardwareInterface>
      <mechanicalReduction>1</mechanicalReduction>
    </actuator>
  </transmission>
  <link name="m1n6s200_link_finger_tip_2">
    <visual>
      <geometry>
        <mesh filename="meshes/kinova/finger_distal.obj"/>
      </geometry>
      <material name="carbon_fiber">
        <color rgba="0.792156862745098 0.819607843137255 0.933333333333333 1"/>
      </material>
    </visual>
    <collision>
      <geometry>
        <mesh filename="meshes/kinova/finger_distal.obj"/>
      </geometry>
    </collision>
    <inertial>
      <mass value="0.01"/>
      <origin xyz="0.022 0 0"/>
      <inertia ixx="7.8999684e-07" ixy="0" ixz="0" iyy="7.8999684e-07" iyz="0" izz="8e-08"/>
    </inertial>
  </link>
  <joint name="m1n6s200_joint_finger_tip_2" type="fixed">
    <parent link="m1n6s200_link_finger_2"/>
    <child link="m1n6s200_link_finger_tip_2"/>
    <axis xyz="0 0 1"/>
    <origin rpy="0 0 0" xyz="0.044 -0.003 0"/>
    <limit effort="2000" lower="0" upper="2" velocity="1"/>
  </joint>

</robot>
